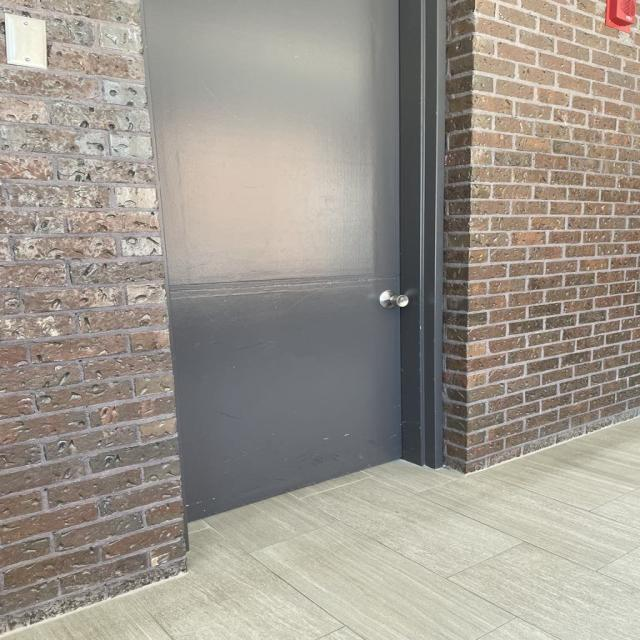door-knob: (380, 290, 408, 309)
